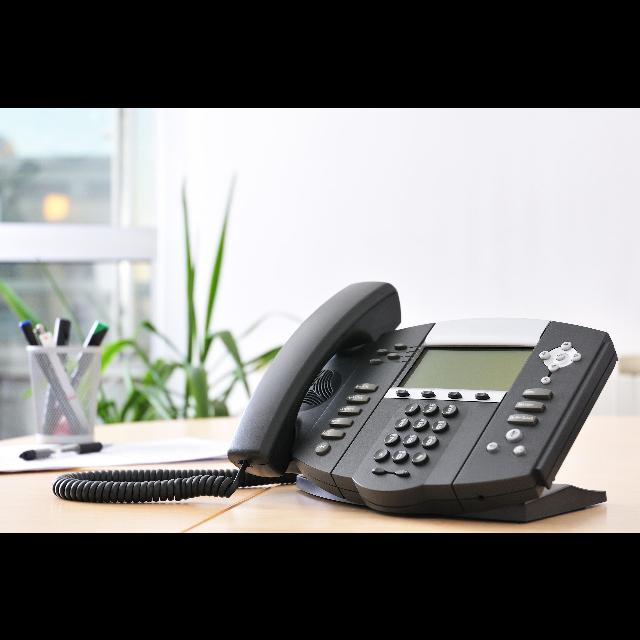Telephone-Set: (225, 280, 619, 524)
